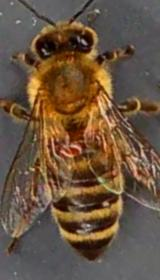varroa_mite: (53, 139, 88, 163)
